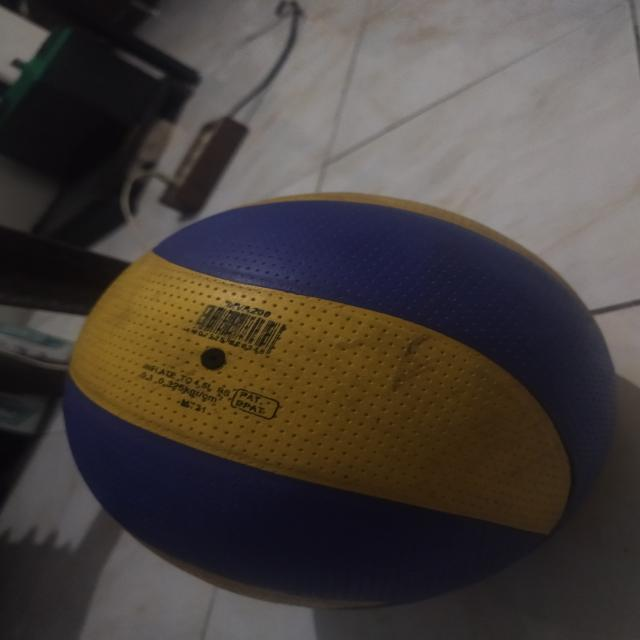Volleyball: (68, 189, 621, 614)
